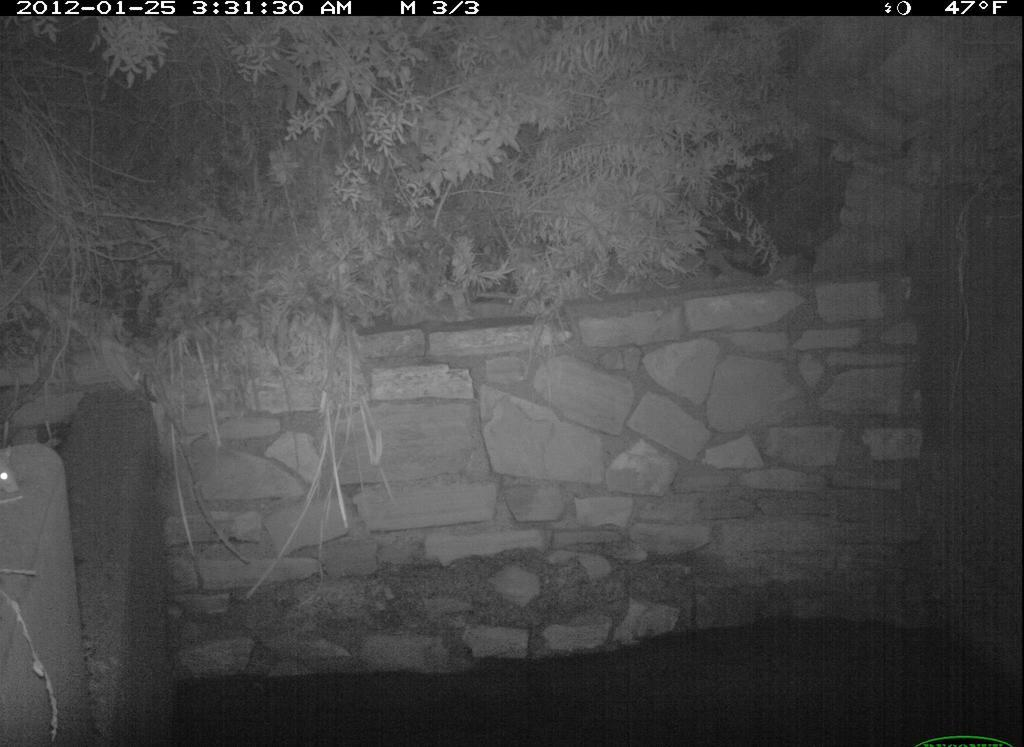rodent: (1, 443, 27, 499)
